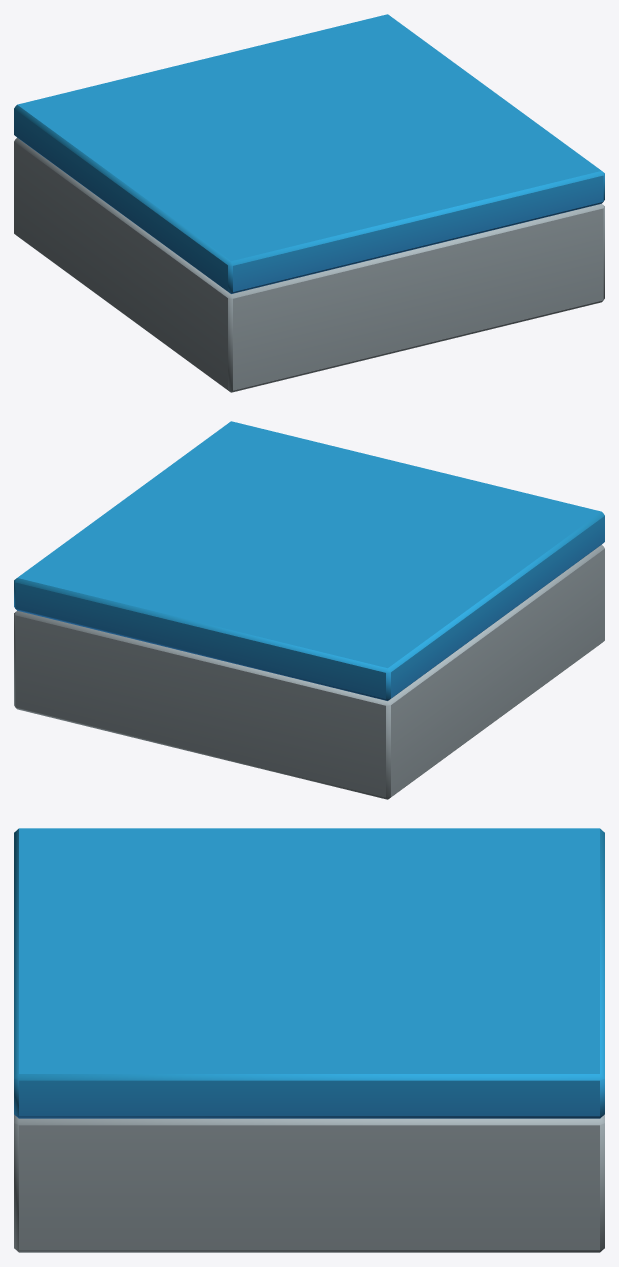
Rendered from platform_6x6x2_blue.glb.
The picture shows the model from 3 angles, top to bottom: view 1: azimuth 30°, elevation 25°; view 2: azimuth 150°, elevation 25°; view 3: azimuth 270°, elevation 25°; orthographic projection. The views are drawn at different scales.
Parts seen in each view (by area): view 1: platform_6x6x2_blue; view 2: platform_6x6x2_blue; view 3: platform_6x6x2_blue.
Boxes of the visible parts, bbox=[...] form: platform_6x6x2_blue: bbox=[14, 14, 604, 392]; platform_6x6x2_blue: bbox=[14, 421, 604, 799]; platform_6x6x2_blue: bbox=[14, 828, 604, 1252].
Bounding box in the file's own units: 6 × 2 × 6.
Materials: 1 (1 with a texture image).
